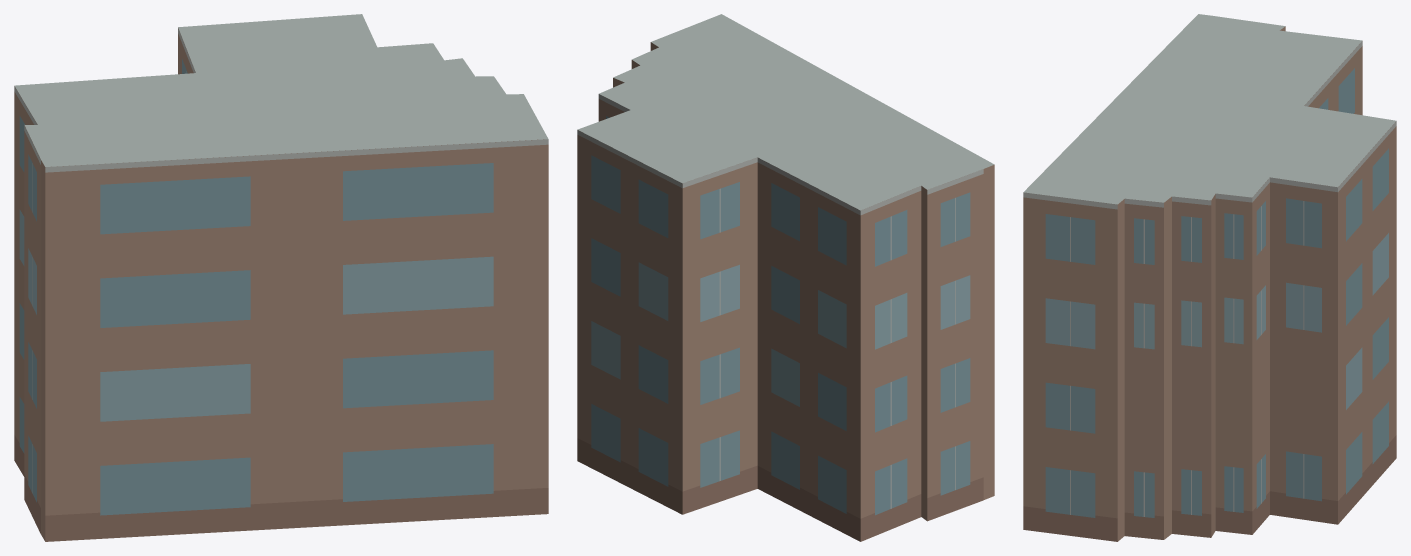
Rendered from survey-upis-32976743.glb.
The picture shows the model from 3 angles, left to right: view 1: azimuth 30°, elevation 25°; view 2: azimuth 150°, elevation 25°; view 3: azimuth 270°, elevation 25°; orthographic projection. The views are drawn at different scales.
Visible parts, largest first — view 1: survey-upis-32976743.tmp; view 2: survey-upis-32976743.tmp; view 3: survey-upis-32976743.tmp.
Part boxes in pixels (<box>): survey-upis-32976743.tmp: <box>14,14,548,541</box>; survey-upis-32976743.tmp: <box>577,14,994,541</box>; survey-upis-32976743.tmp: <box>1023,14,1396,541</box>.
Size of the model in its own units: 19.99 by 16.5 by 16.56.
